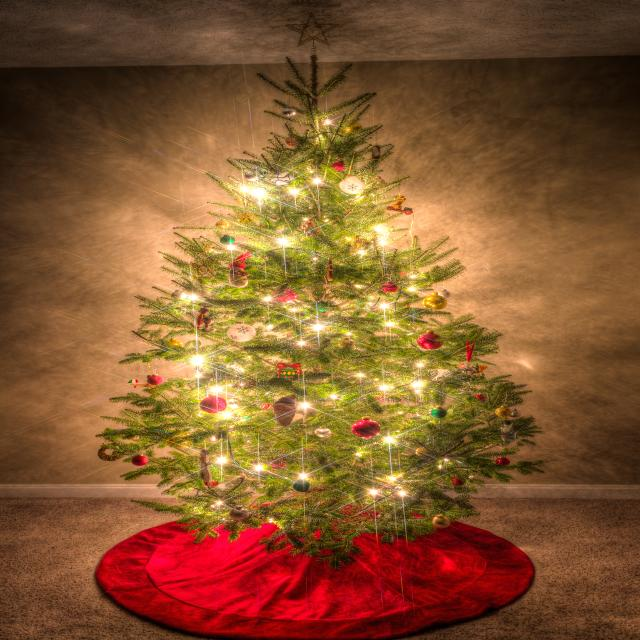Christmas-tree: (46, 60, 573, 525)
